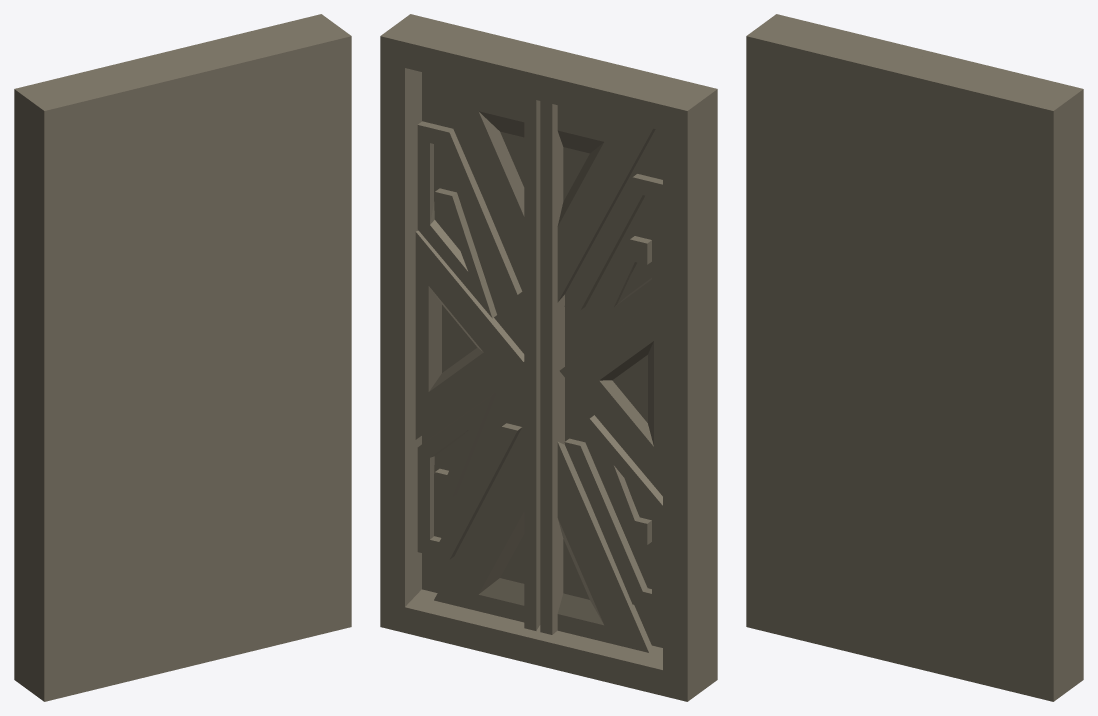
The model's file is TempleDoor_C.fbx.
The picture shows the model from 3 angles, left to right: view 1: azimuth 30°, elevation 25°; view 2: azimuth 150°, elevation 25°; view 3: azimuth 330°, elevation 25°; orthographic projection.
Visible parts, largest first — view 1: TempleDoor_B_R, TempleDoor_B_L; view 2: TempleDoor_B_R, TempleDoor_B_L; view 3: TempleDoor_B_L, TempleDoor_B_R.
Part boxes in pixels (x1=…): TempleDoor_B_R: x1=14, y1=51, x2=197, y2=701; TempleDoor_B_L: x1=168, y1=14, x2=351, y2=664; TempleDoor_B_R: x1=534, y1=51, x2=717, y2=701; TempleDoor_B_L: x1=380, y1=14, x2=563, y2=664; TempleDoor_B_L: x1=900, y1=51, x2=1083, y2=701; TempleDoor_B_R: x1=746, y1=14, x2=929, y2=664.
Bounding box in the file's own units: 241 × 443 × 41.12.
